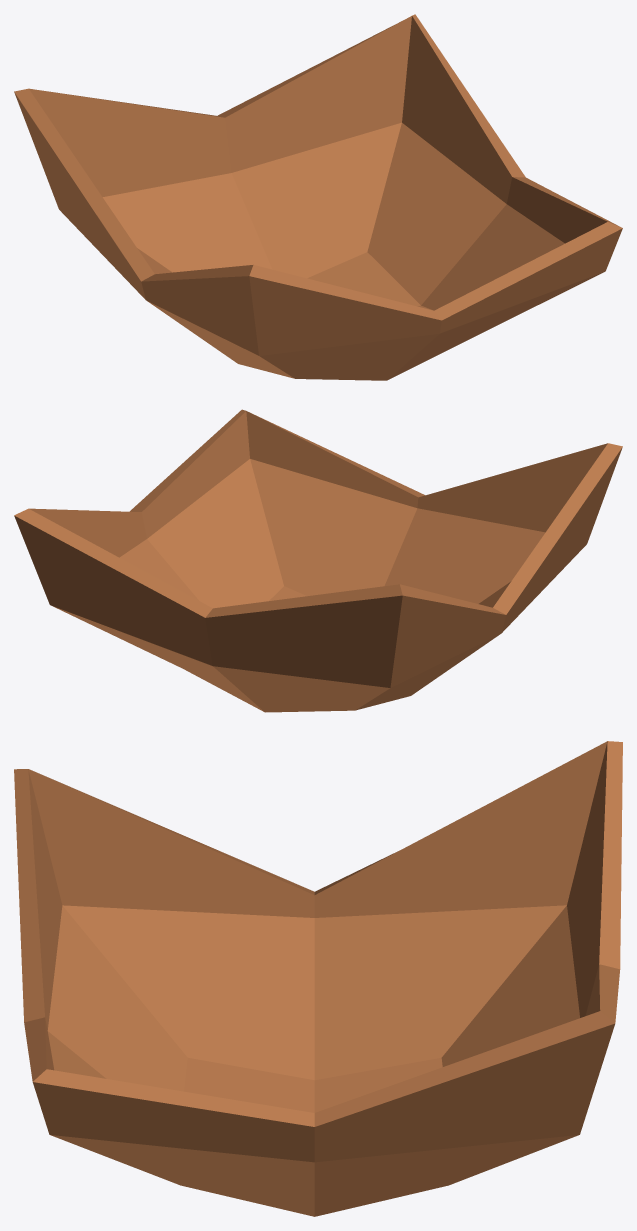
Rendered from eggShell02.fbx.
The picture shows the model from 3 angles, top to bottom: view 1: azimuth 30°, elevation 25°; view 2: azimuth 150°, elevation 25°; view 3: azimuth 270°, elevation 25°; orthographic projection. The views are drawn at different scales.
Visible parts, largest first — view 1: eggShell02; view 2: eggShell02; view 3: eggShell02.
Part boxes in pixels (bbox=[...]): eggShell02: bbox=[14, 14, 622, 380]; eggShell02: bbox=[14, 409, 622, 712]; eggShell02: bbox=[14, 741, 622, 1216].
Bounding box in the file's own units: 7.55 × 3.96 × 7.54.
1 material, 1 textured.
